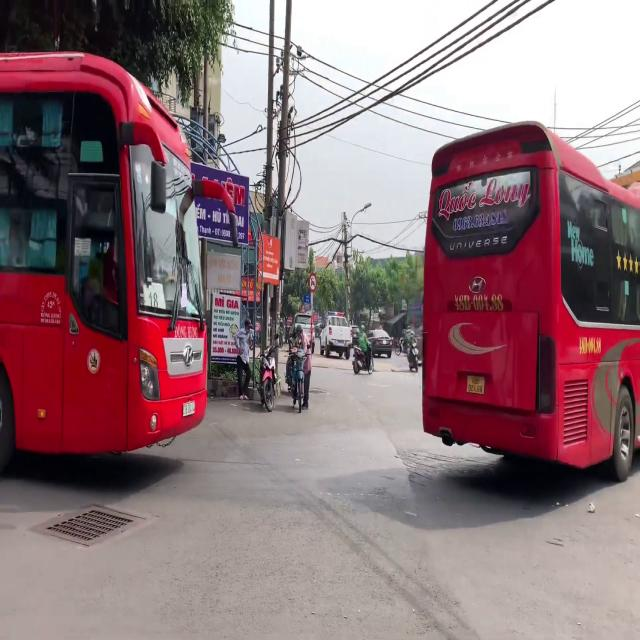bien_trang: (182, 402, 198, 416)
bien_vang: (467, 372, 485, 397)
